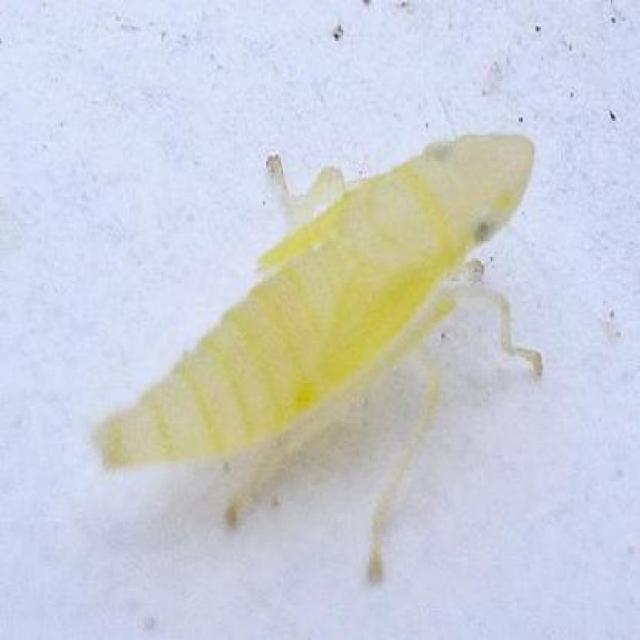green-leafhopper: (97, 129, 548, 582)
